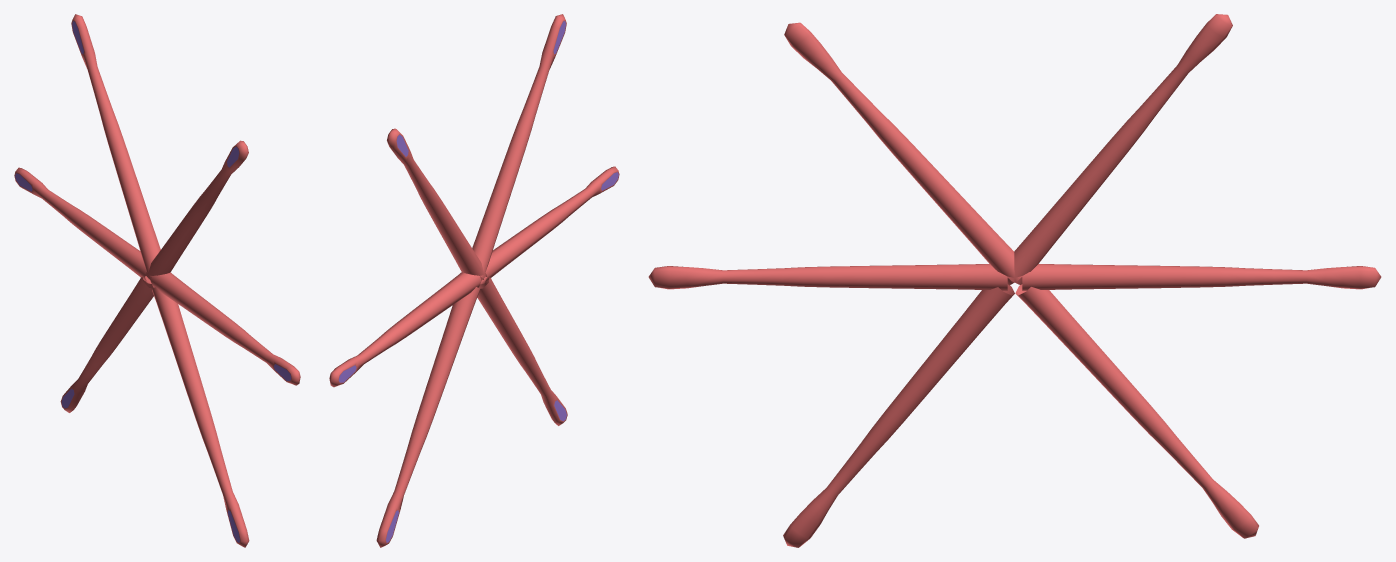
Rendered from PR_tentacles.fbx.
3 views of the same model, side by side, from view 1: azimuth 30°, elevation 25°; view 2: azimuth 150°, elevation 25°; view 3: azimuth 270°, elevation 25° (orthographic). The views are drawn at different scales.
Parts seen in each view (by area): view 1: PR_Tentacle.002, PR_Tentacle.005, PR_Tentacle, PR_Tentacle.004, PR_Tentacle.001, PR_Tentacle.003; view 2: PR_Tentacle.003, PR_Tentacle.001, PR_Tentacle.004, PR_Tentacle.005, PR_Tentacle, PR_Tentacle.002; view 3: PR_Tentacle.004, PR_Tentacle, PR_Tentacle.002, PR_Tentacle.003, PR_Tentacle.001, PR_Tentacle.005.
Boxes of the visible parts, <box> form: PR_Tentacle.002: <box>152,287,249,547</box>; PR_Tentacle.005: <box>71,14,160,279</box>; PR_Tentacle: <box>150,272,300,385</box>; PR_Tentacle.004: <box>14,167,151,283</box>; PR_Tentacle.001: <box>146,140,248,279</box>; PR_Tentacle.003: <box>60,272,153,412</box>; PR_Tentacle.003: <box>376,287,479,547</box>; PR_Tentacle.001: <box>472,14,566,279</box>; PR_Tentacle.004: <box>329,272,481,387</box>; PR_Tentacle.005: <box>387,128,485,280</box>; PR_Tentacle: <box>480,166,619,284</box>; PR_Tentacle.002: <box>477,273,567,425</box>; PR_Tentacle.004: <box>1022,264,1381,290</box>; PR_Tentacle: <box>648,264,1007,290</box>; PR_Tentacle.002: <box>783,285,1014,547</box>; PR_Tentacle.003: <box>1015,284,1258,538</box>; PR_Tentacle.001: <box>784,22,1022,285</box>; PR_Tentacle.005: <box>1007,14,1232,284</box>.
Size of the model in its own units: 333 by 6635 by 8270.
